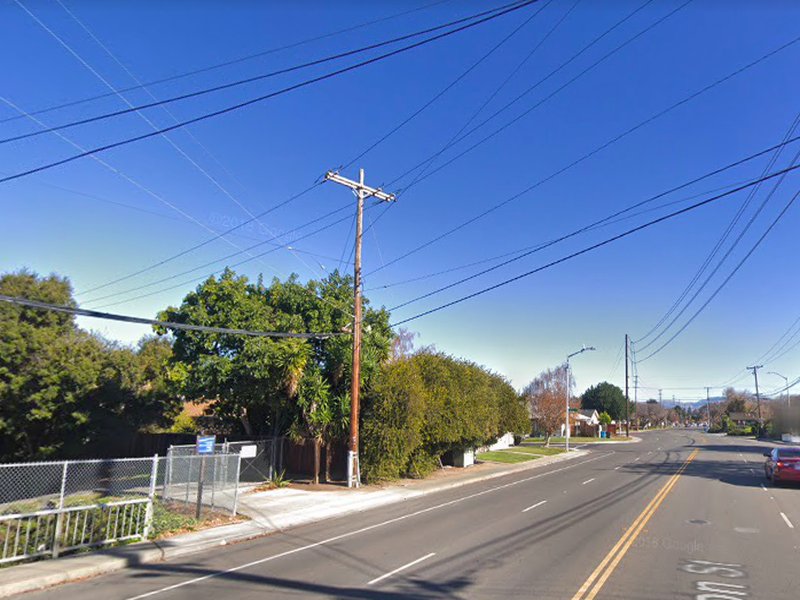tree: (152, 265, 397, 485)
utility_pole: (311, 156, 406, 237)
